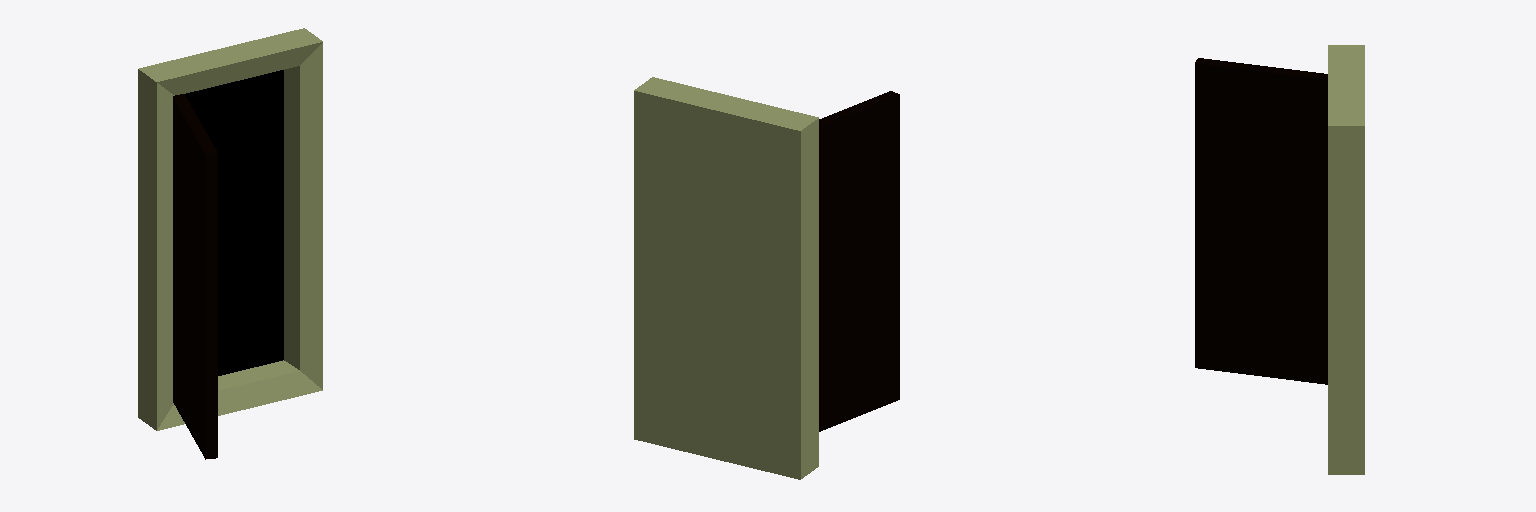
File: portal.obj
3 views of the same model, side by side, from view 1: azimuth 30°, elevation 25°; view 2: azimuth 150°, elevation 25°; view 3: azimuth 270°, elevation 25° (orthographic).
Visible parts, largest first — view 1: frame_Plane, glow_Plane.002, door_Plane.001; view 2: frame_Plane, door_Plane.001; view 3: door_Plane.001, frame_Plane.
Part boxes in pixels (x1,y1,x2,y2): frame_Plane: (138, 28, 322, 430); glow_Plane.002: (185, 70, 283, 375); door_Plane.001: (173, 94, 217, 459); frame_Plane: (634, 77, 818, 479); door_Plane.001: (819, 91, 899, 431); door_Plane.001: (1195, 58, 1327, 384); frame_Plane: (1328, 45, 1364, 474).
Size of the model in its own units: 2.19 by 4 by 1.78.